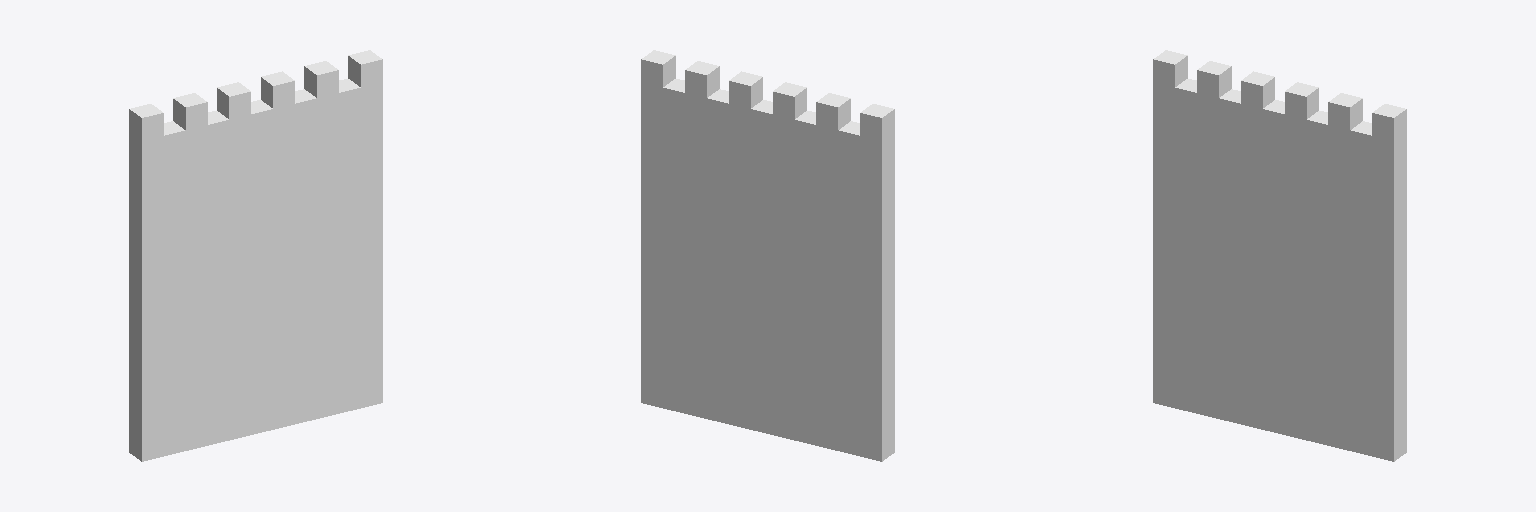
The model's file is Wall1_End.obj.
3 views of the same model, side by side, from view 1: azimuth 30°, elevation 25°; view 2: azimuth 150°, elevation 25°; view 3: azimuth 330°, elevation 25° (orthographic).
Visible parts, largest first — view 1: object 1; view 2: object 1; view 3: object 1.
Boxes of the visible parts, <box> form: object 1: <box>129,50,382,461</box>; object 1: <box>641,50,894,461</box>; object 1: <box>1153,50,1406,461</box>.
Size of the model in its own units: 2.2 by 3 by 0.2.